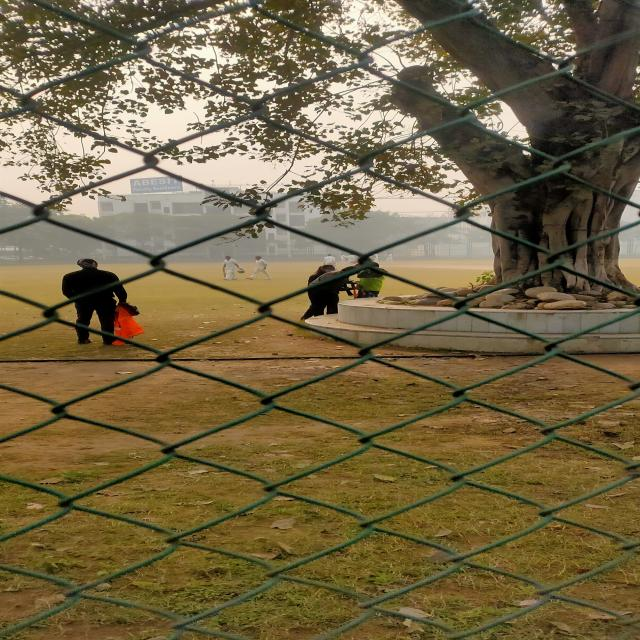unsafe: (60, 261, 141, 353), (329, 264, 353, 318)
